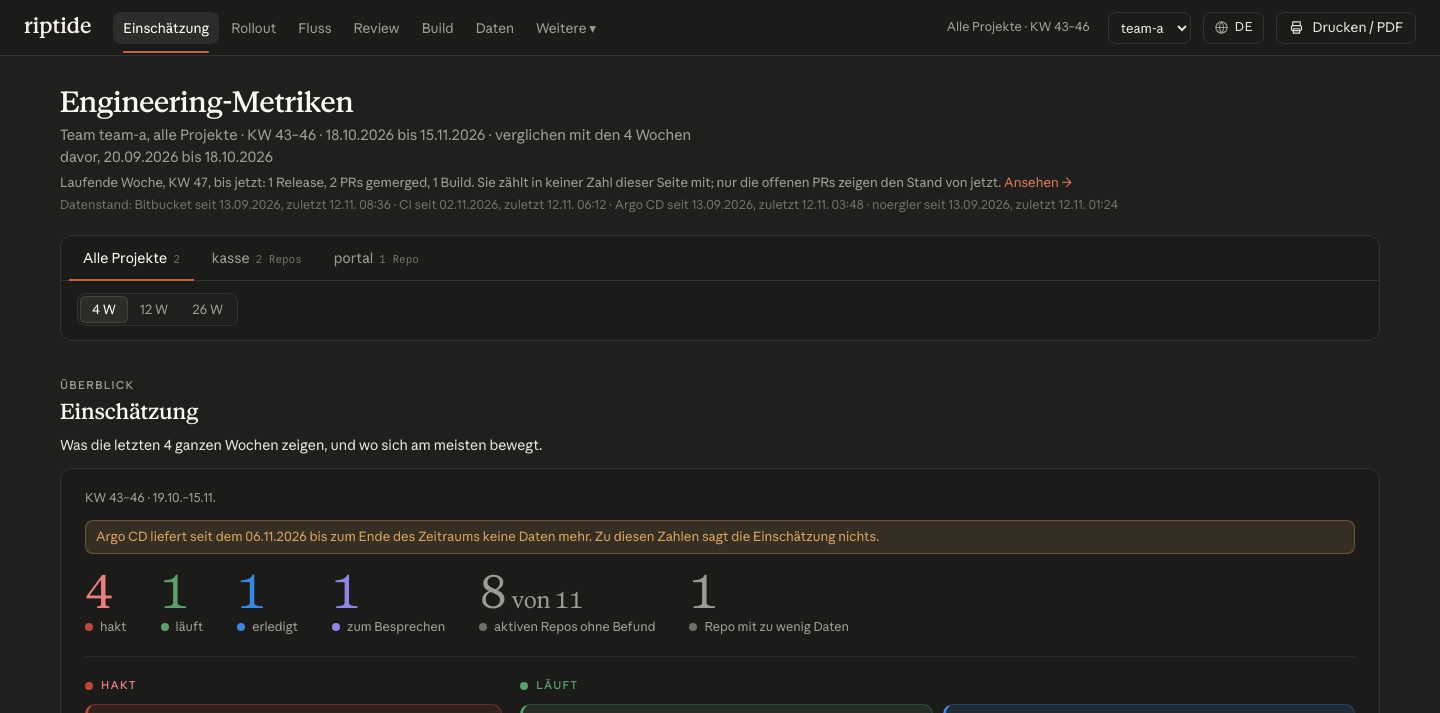
App › counts the running week apart and finds its rows
expect the heading "Einschätzung" is shown: met, box [60, 398, 198, 424]
Note: Its link searches the facts for the mark the rows carry.
Click the button "Ansehen →": (1038,182) [1004, 172, 1072, 192]
(page scrolled)
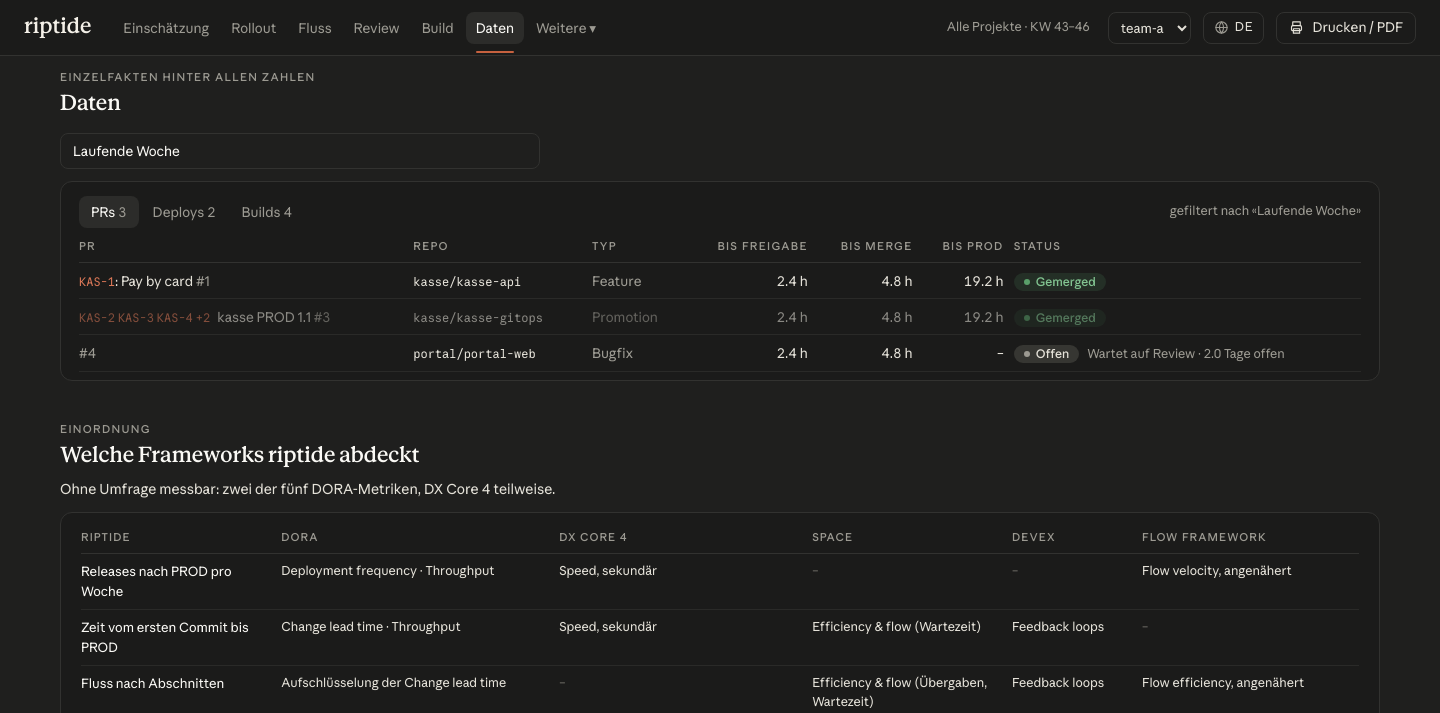
Click the tab "Deploys 2": (184,212) [141, 196, 228, 228]
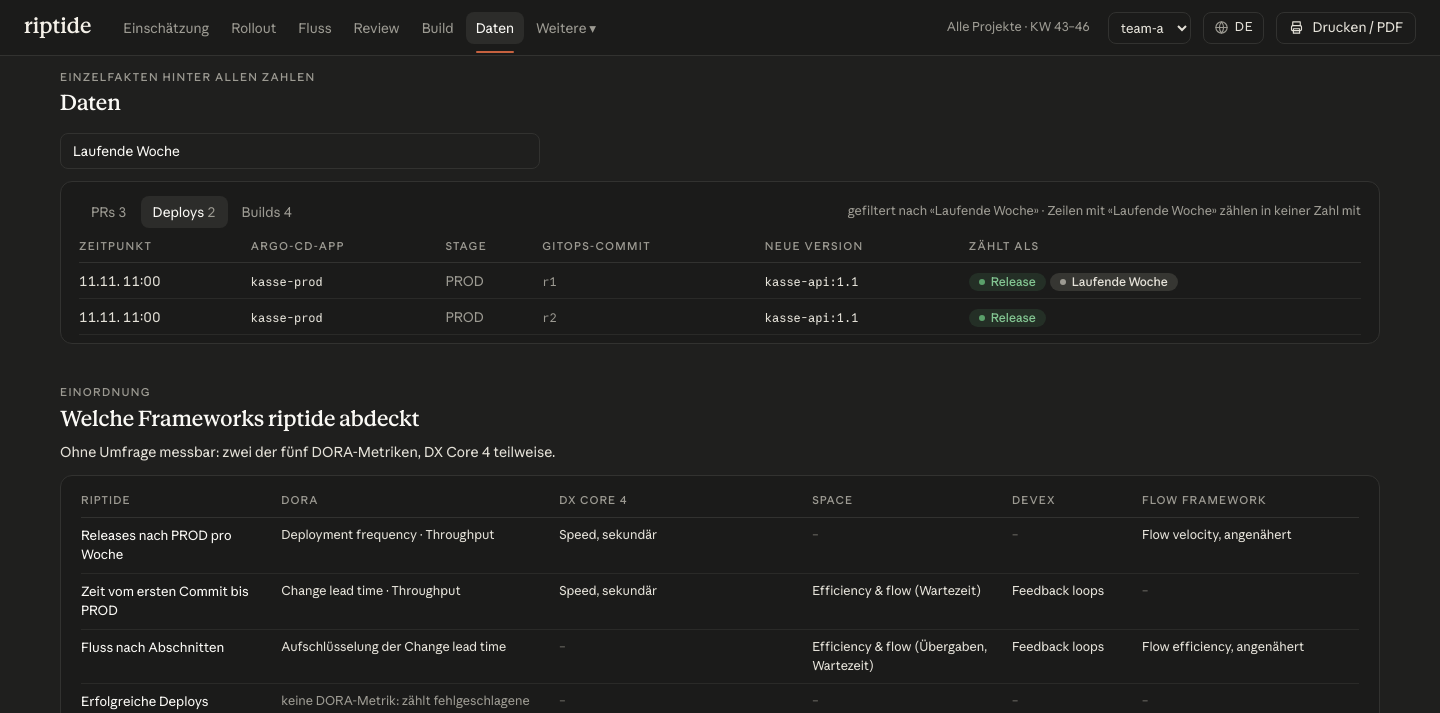
expect the text "Laufende Woche" is shown: met, box [1050, 273, 1178, 291]
expect the text "Zeilen mit «Laufende Woche» zählen in keiner Zahl mit" is shown: met, box [1039, 203, 1361, 218]
